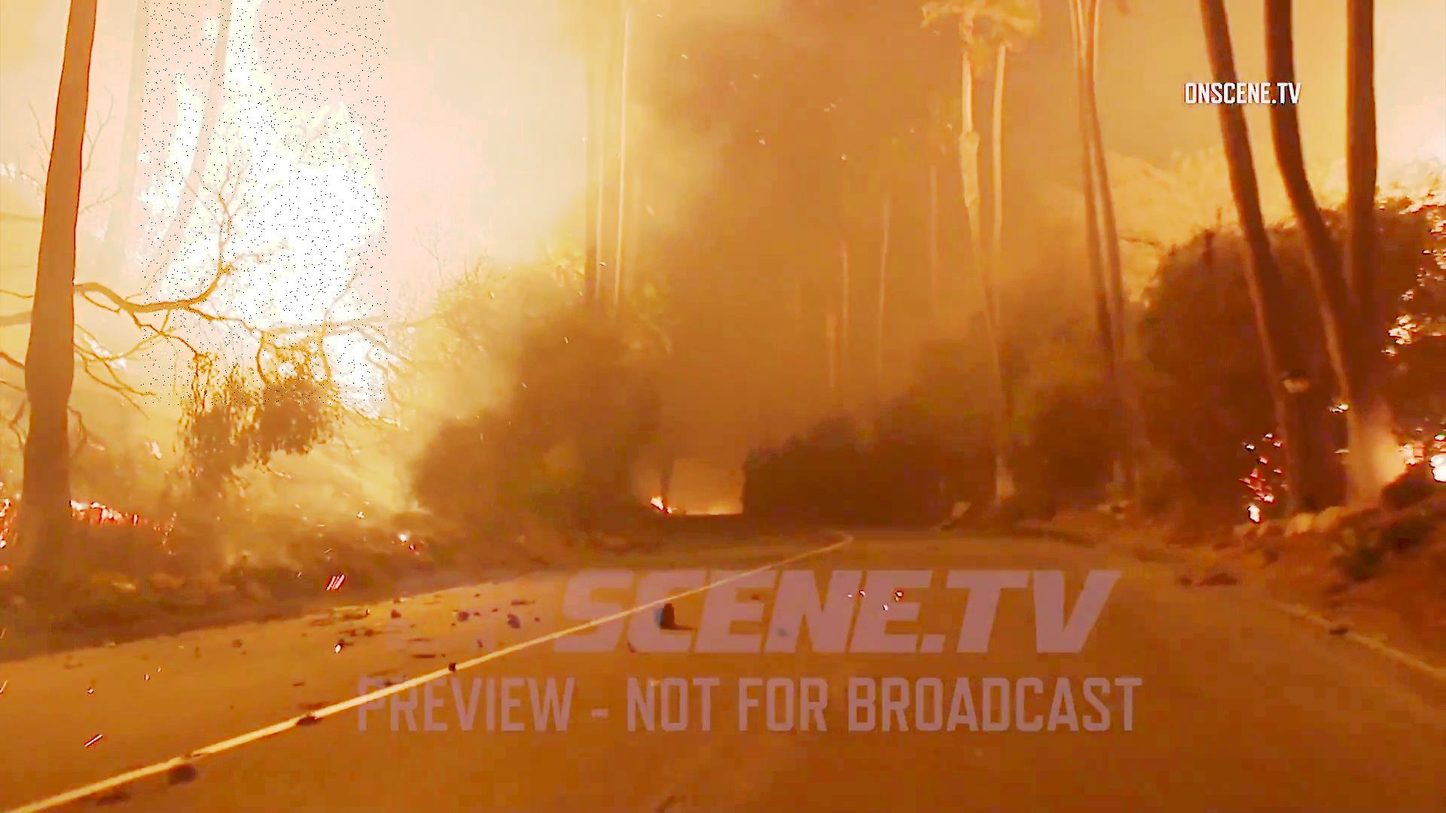fire: (141, 0, 388, 405)
